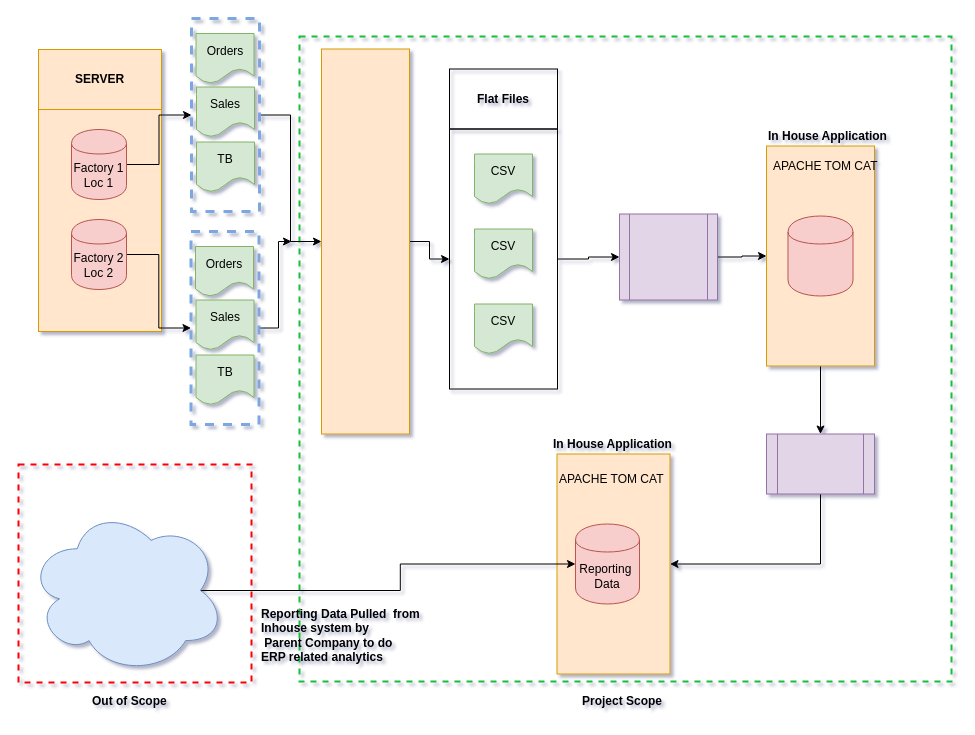
Image size: 975x735. Some labels were removed from this diagram. Here are the shapes that lost their labels. From the top down, the centre of each, then its label:
(x=365, y=241): Data Transfer Server FTP
(x=668, y=256): Event Triggers/Cron Triggers Using PostgreSQL
(x=820, y=255): In House Application DB
(x=820, y=463): Validation Algorithm
(x=126, y=590): Business Analytics
